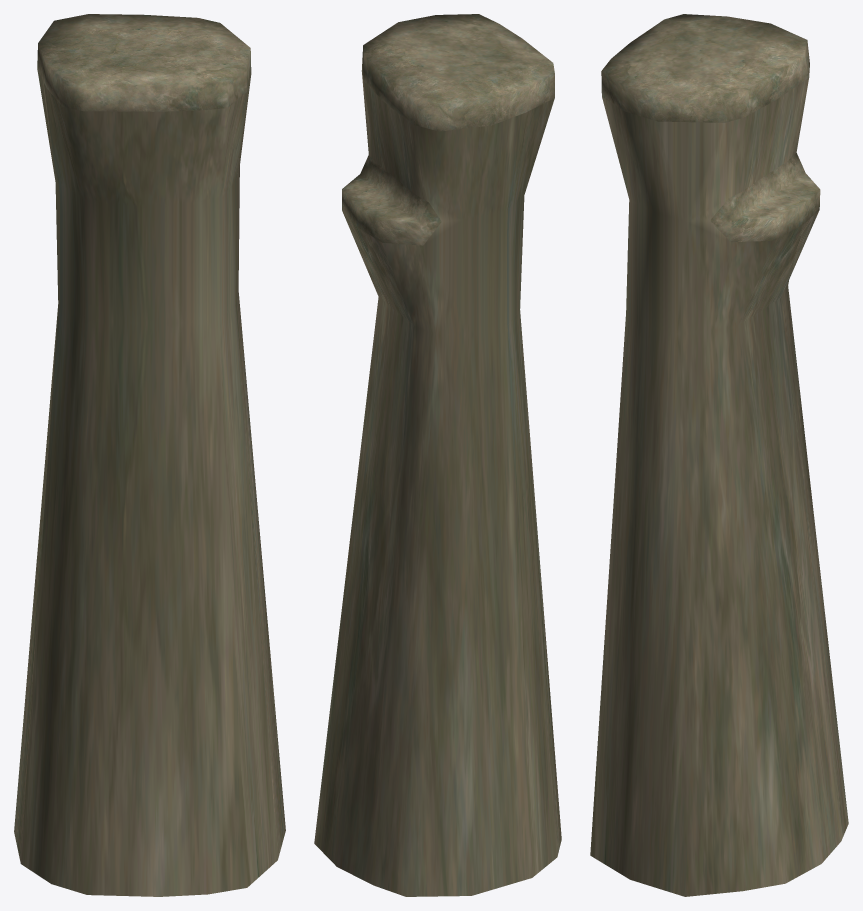
File: OVERHILL_A_01_OH_B_OBJECT22.fbx
3 renders of one model, left to right at view 1: azimuth 30°, elevation 25°; view 2: azimuth 150°, elevation 25°; view 3: azimuth 270°, elevation 25°, orthographic. The views are drawn at different scales.
Parts seen in each view (by area): view 1: OVERHILL_A_01_OH_B_OBJECT22; view 2: OVERHILL_A_01_OH_B_OBJECT22; view 3: OVERHILL_A_01_OH_B_OBJECT22.
Part boxes in pixels (box(x1,y1,x2,y2)): OVERHILL_A_01_OH_B_OBJECT22: box(14, 14, 285, 896); OVERHILL_A_01_OH_B_OBJECT22: box(314, 14, 561, 896); OVERHILL_A_01_OH_B_OBJECT22: box(590, 14, 848, 896).
Size of the model in its own units: 38132 by 126275 by 37883.
1 material, 1 textured.
